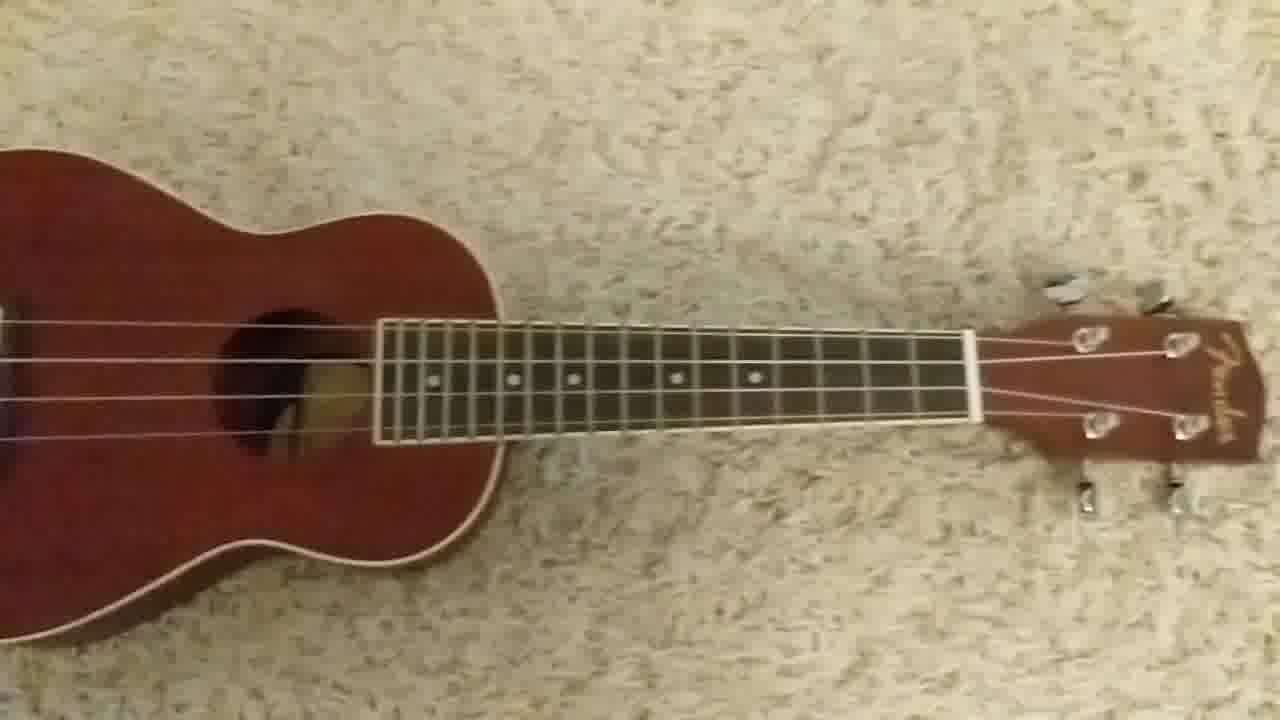Body: (1, 145, 508, 647)
Headstock: (977, 272, 1266, 522)
